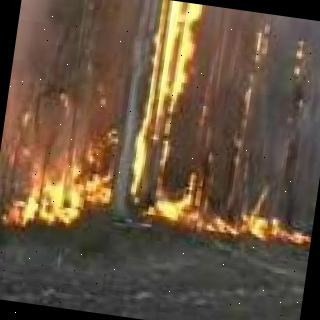fire: (119, 0, 198, 216), (10, 100, 113, 234), (180, 188, 314, 250), (230, 25, 280, 184)
